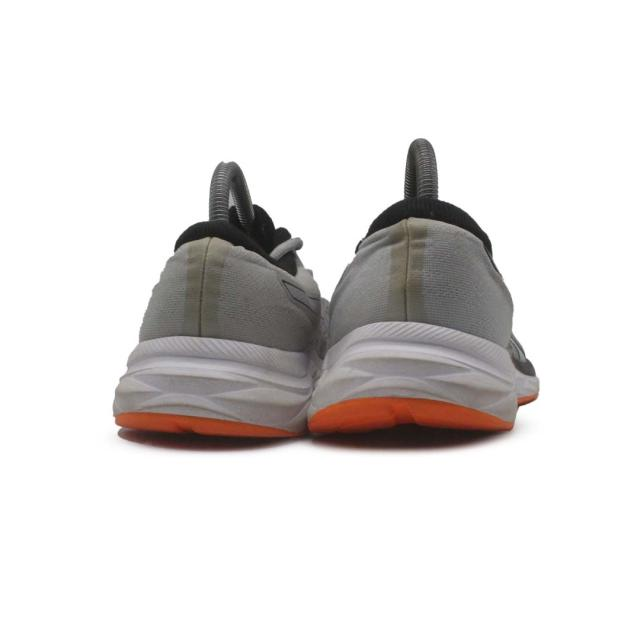heel: (322, 199, 510, 365), (135, 221, 308, 370)
midsole: (313, 346, 537, 433), (111, 354, 313, 436)
